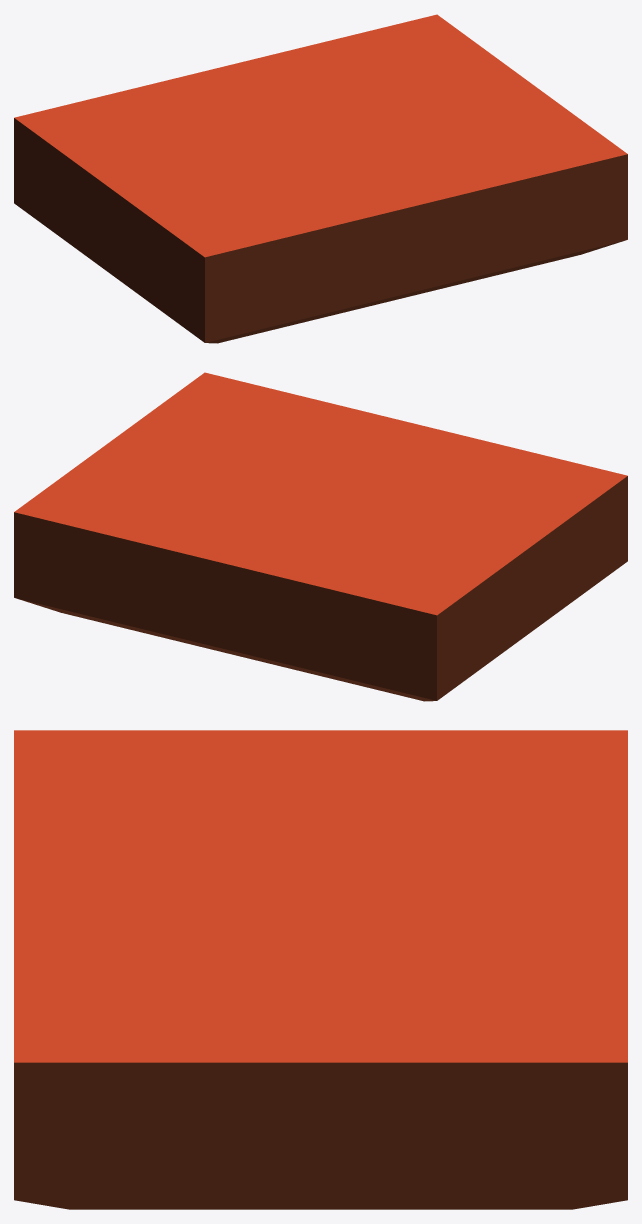
The model's file is StandardPlatform.fbx.
3 renders of one model, top to bottom at view 1: azimuth 30°, elevation 25°; view 2: azimuth 150°, elevation 25°; view 3: azimuth 270°, elevation 25°, orthographic. The views are drawn at different scales.
Visible parts, largest first — view 1: Cube; view 2: Cube; view 3: Cube.
Part boxes in pixels (x1,y1,x2,y2): Cube: [14, 14, 627, 343]; Cube: [14, 372, 627, 701]; Cube: [14, 730, 627, 1209].
Bounding box in the file's own units: 1889 × 452 × 1476.
